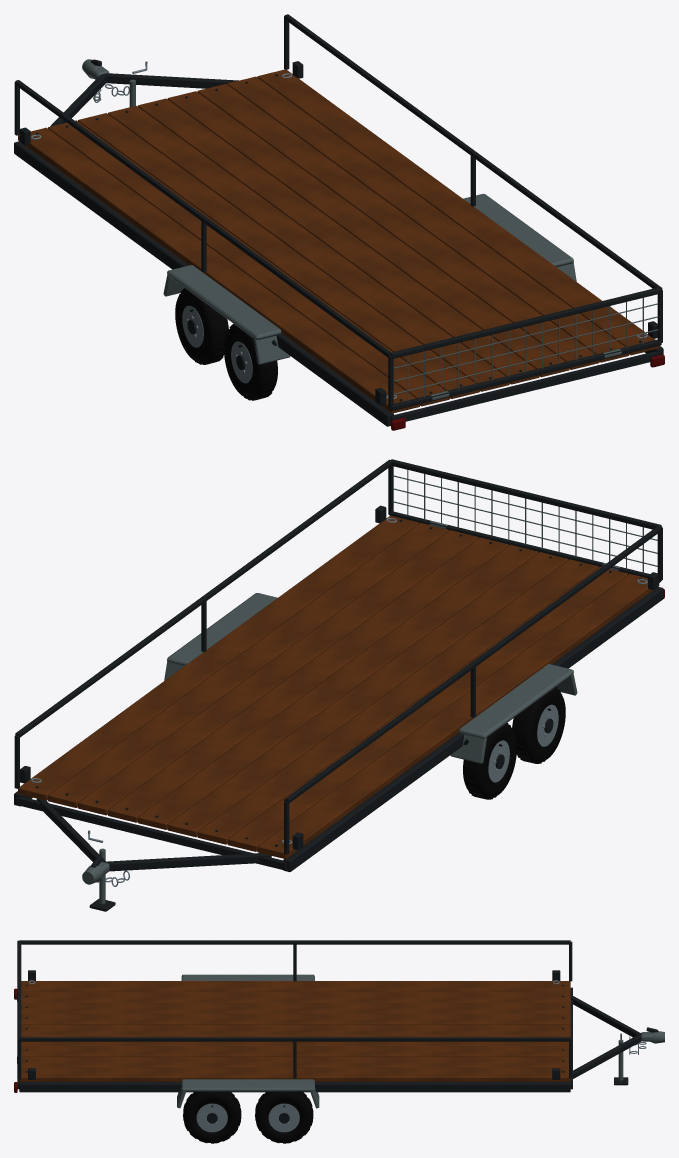
Rendered from EquipmentTrailer.gltf.
The picture shows the model from 3 angles, top to bottom: view 1: azimuth 30°, elevation 25°; view 2: azimuth 150°, elevation 25°; view 3: azimuth 270°, elevation 25°; orthographic projection. The views are drawn at different scales.
Parts seen in each view (by area): view 1: EquipmentTrailer__Body, EquipmentTrailer__Ramp, EquipmentTrailer__Wheel_-1_2.8, EquipmentTrailer__Wheel_-1_5.3; view 2: EquipmentTrailer__Body, EquipmentTrailer__Ramp, EquipmentTrailer__Wheel_-1_5.3, EquipmentTrailer__Wheel_-1_2.8; view 3: EquipmentTrailer__Body, EquipmentTrailer__Wheel_1_2.8, EquipmentTrailer__Wheel_1_5.3, EquipmentTrailer__Ramp.
Part boxes in pixels (left/top/right/bottom): EquipmentTrailer__Body: left=14, top=14, right=664, bottom=430; EquipmentTrailer__Ramp: left=390, top=287, right=661, bottom=410; EquipmentTrailer__Wheel_-1_2.8: left=175, top=288, right=228, bottom=364; EquipmentTrailer__Wheel_-1_5.3: left=224, top=324, right=277, bottom=400; EquipmentTrailer__Body: left=14, top=459, right=664, bottom=911; EquipmentTrailer__Ramp: left=389, top=459, right=661, bottom=582; EquipmentTrailer__Wheel_-1_5.3: left=512, top=687, right=565, bottom=763; EquipmentTrailer__Wheel_-1_2.8: left=463, top=723, right=516, bottom=799; EquipmentTrailer__Body: left=14, top=940, right=664, bottom=1108; EquipmentTrailer__Wheel_1_2.8: left=255, top=1091, right=313, bottom=1143; EquipmentTrailer__Wheel_1_5.3: left=183, top=1091, right=241, bottom=1143; EquipmentTrailer__Ramp: left=17, top=940, right=21, bottom=1079.
Size of the model in its own units: 2.1 by 0.8596 by 5.04.
Materials: 1 (1 with a texture image).
